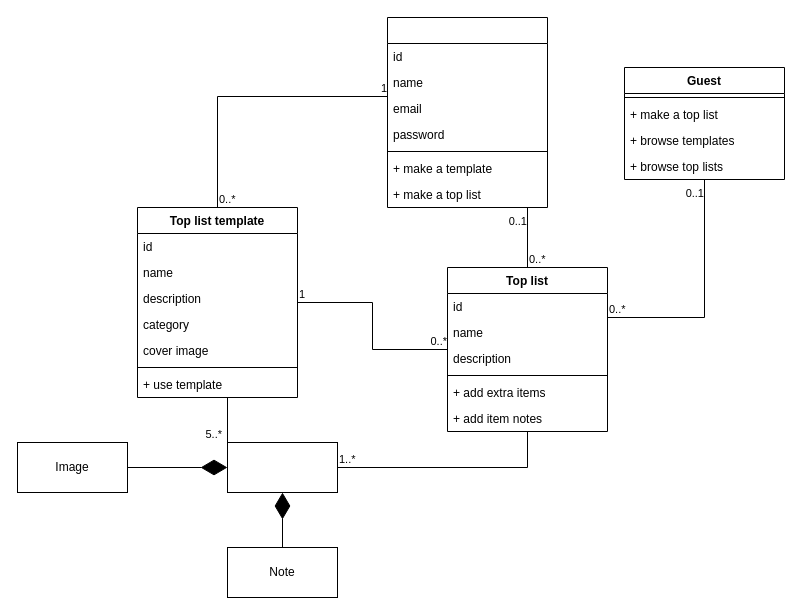
Image size: 802x615. Some labels were removed from this diagram. Here are the shapes that lost their labels. From the top down, the box of each, then its label:
(386, 16, 548, 208): Registered user
(226, 442, 338, 492): Items
